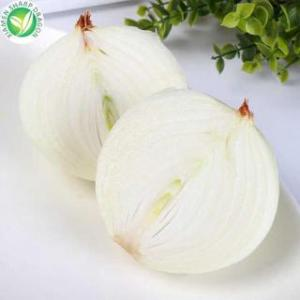onion: (96, 90, 280, 276), (19, 14, 193, 186)
